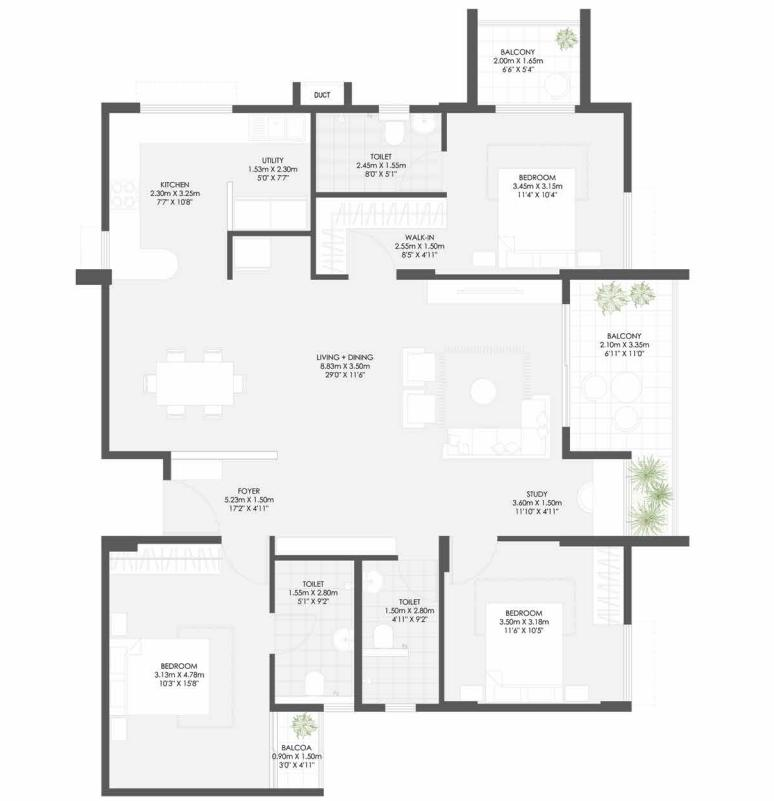Balcony: (568, 277, 678, 455), (478, 23, 579, 106), (626, 455, 678, 537)
Bed: (497, 166, 579, 274), (108, 638, 211, 722), (485, 603, 566, 704)
Bedroom: (104, 548, 273, 789), (441, 540, 627, 708), (444, 110, 625, 274)
Dining table: (139, 340, 256, 429)
Kitchen: (104, 107, 229, 283)
Sofa: (448, 431, 547, 462), (401, 348, 438, 429), (522, 395, 551, 462)
Wardrobe: (312, 197, 444, 234), (587, 549, 629, 619), (105, 550, 223, 571), (320, 205, 351, 282)
balcoa: (269, 704, 324, 789)
commode: (372, 625, 394, 650), (305, 672, 325, 698), (387, 120, 405, 148)
door: (161, 480, 225, 536), (348, 226, 398, 284), (222, 544, 270, 595), (269, 613, 321, 656), (448, 536, 499, 579)
duct: (299, 83, 348, 110)
sink: (232, 116, 310, 143), (411, 113, 437, 137), (331, 629, 355, 652), (362, 572, 384, 593)
stove: (105, 181, 138, 210)
toilet: (274, 557, 360, 712), (359, 559, 441, 709), (313, 106, 443, 195)
tv: (431, 280, 561, 307)
utility: (229, 112, 314, 232)
